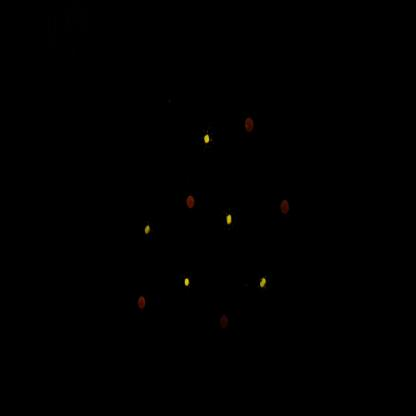PE: (178, 267, 200, 300), (198, 122, 218, 157), (139, 215, 159, 249), (257, 268, 275, 299), (222, 207, 239, 239)
PS: (131, 286, 154, 323), (238, 106, 260, 143), (181, 186, 203, 220), (216, 305, 235, 337), (278, 189, 296, 222)
